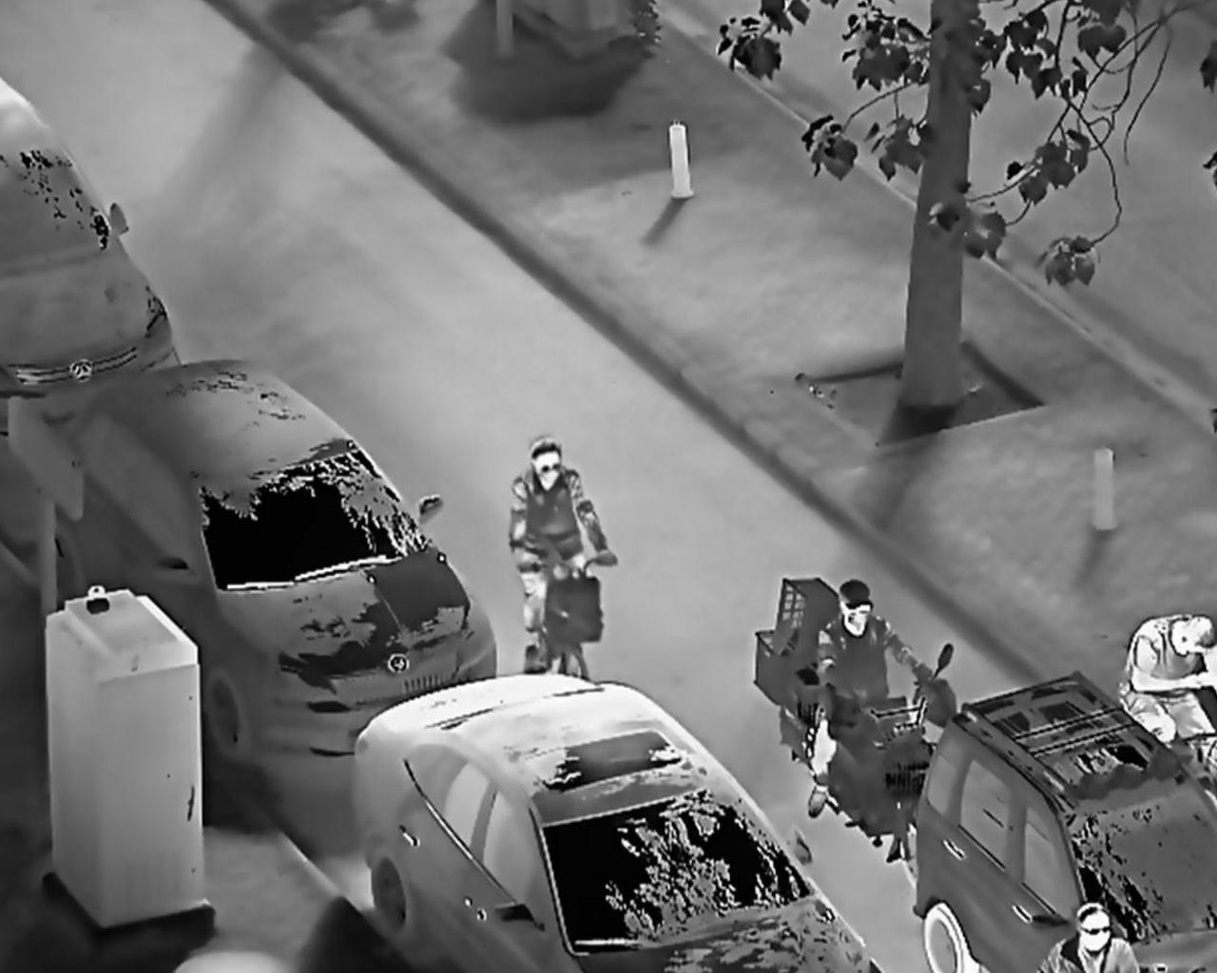person: (805, 572, 933, 825), (505, 432, 623, 678), (1111, 611, 1213, 770), (1031, 902, 1152, 973)
